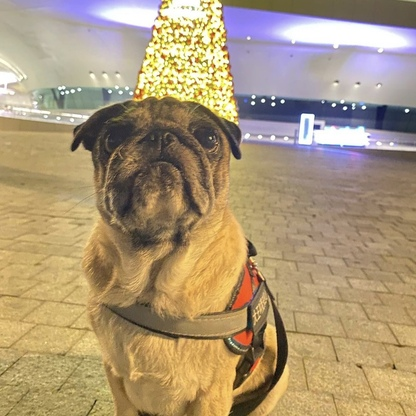Pug: (65, 93, 295, 416)
